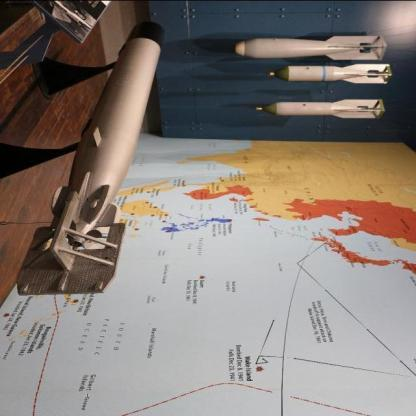MIL_TBM: (231, 32, 390, 62), (248, 96, 394, 122)
